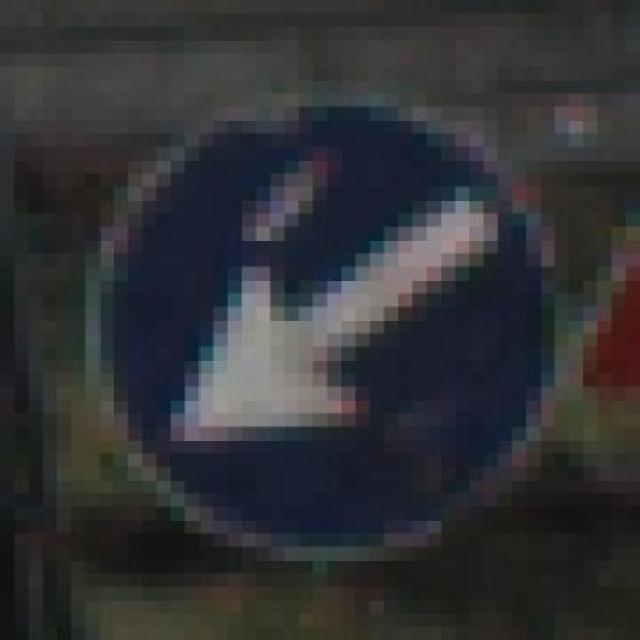Keep-Left: (85, 79, 569, 587)
